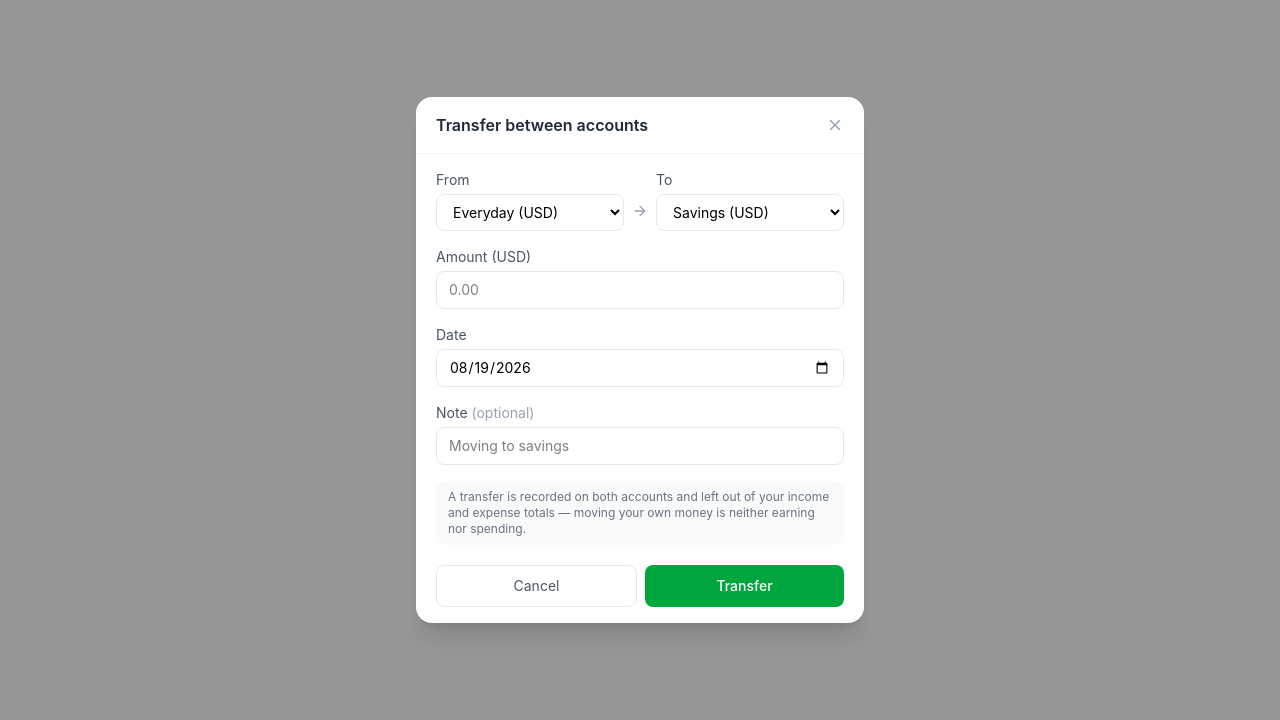
Scenario: TransferForm › refuses an amount of zero
Select "Everyday (USD)" in the dropdown labelled "From" at (530, 212), box 436,194 -> 624,231
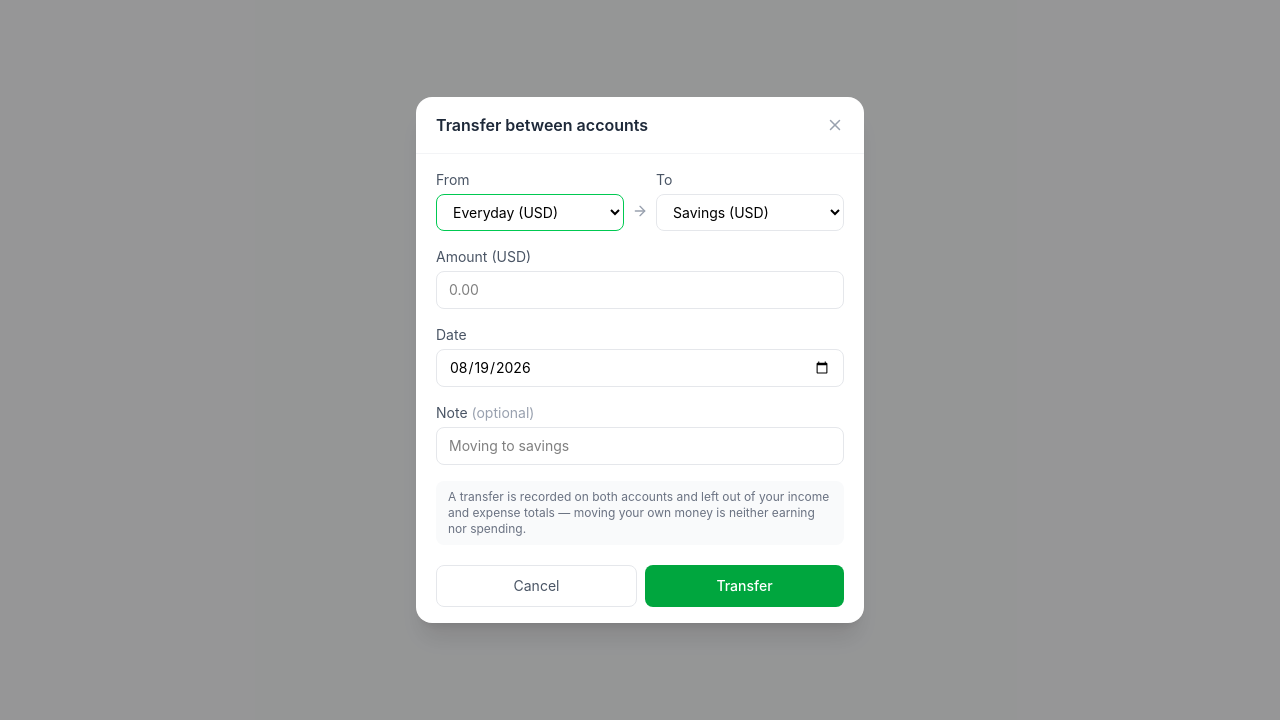
Select "Savings (USD)" in the dropdown labelled "To" at (750, 212), box 656,194 -> 844,231
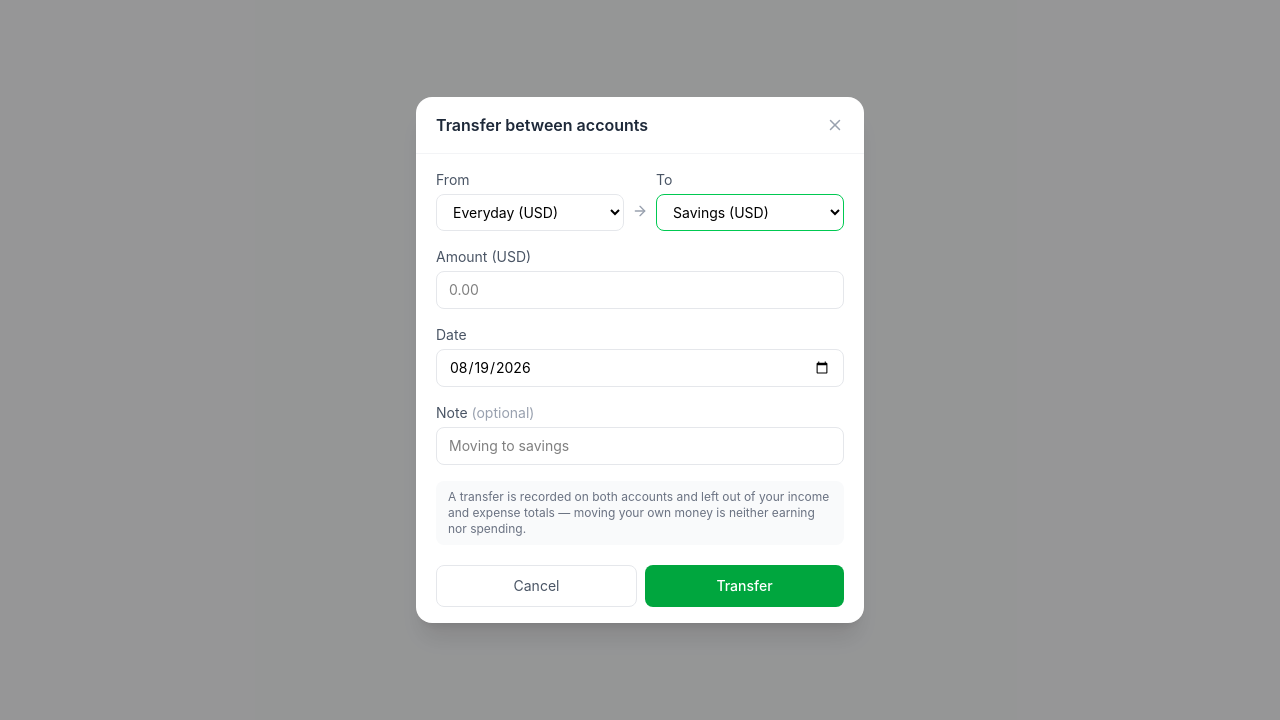
Type "0" into the number field labelled "Amount (USD)".
click(640, 290); type("0")  # box 436,271 -> 844,309
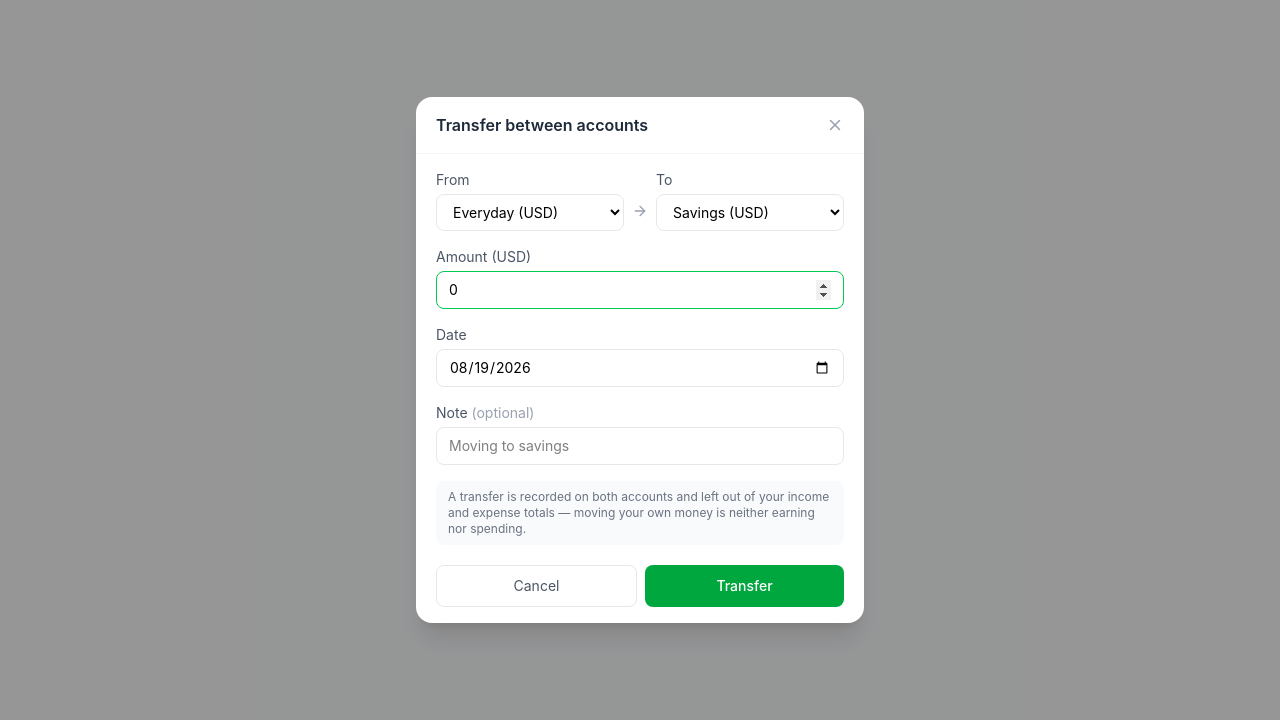
Click the button "Transfer".
click(744, 586)  # box 645,565 -> 844,607
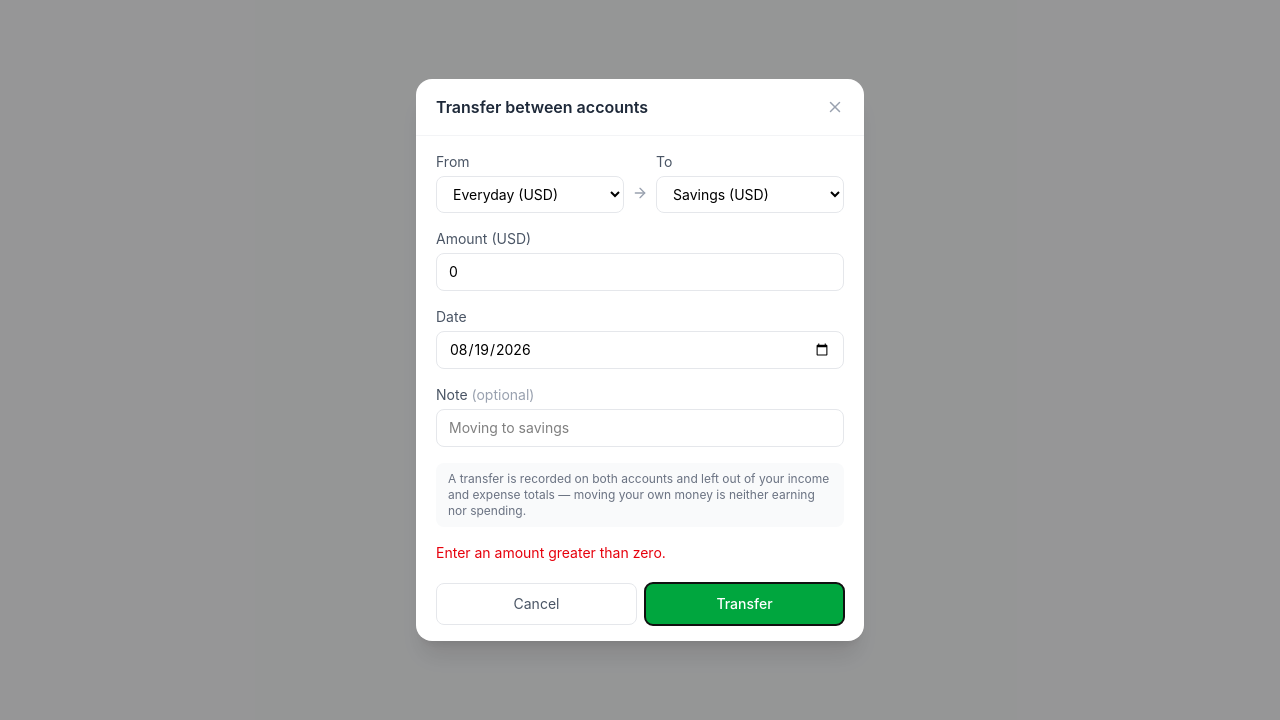
expect the message shows "greater than zero": met, box 436,544 -> 666,561
